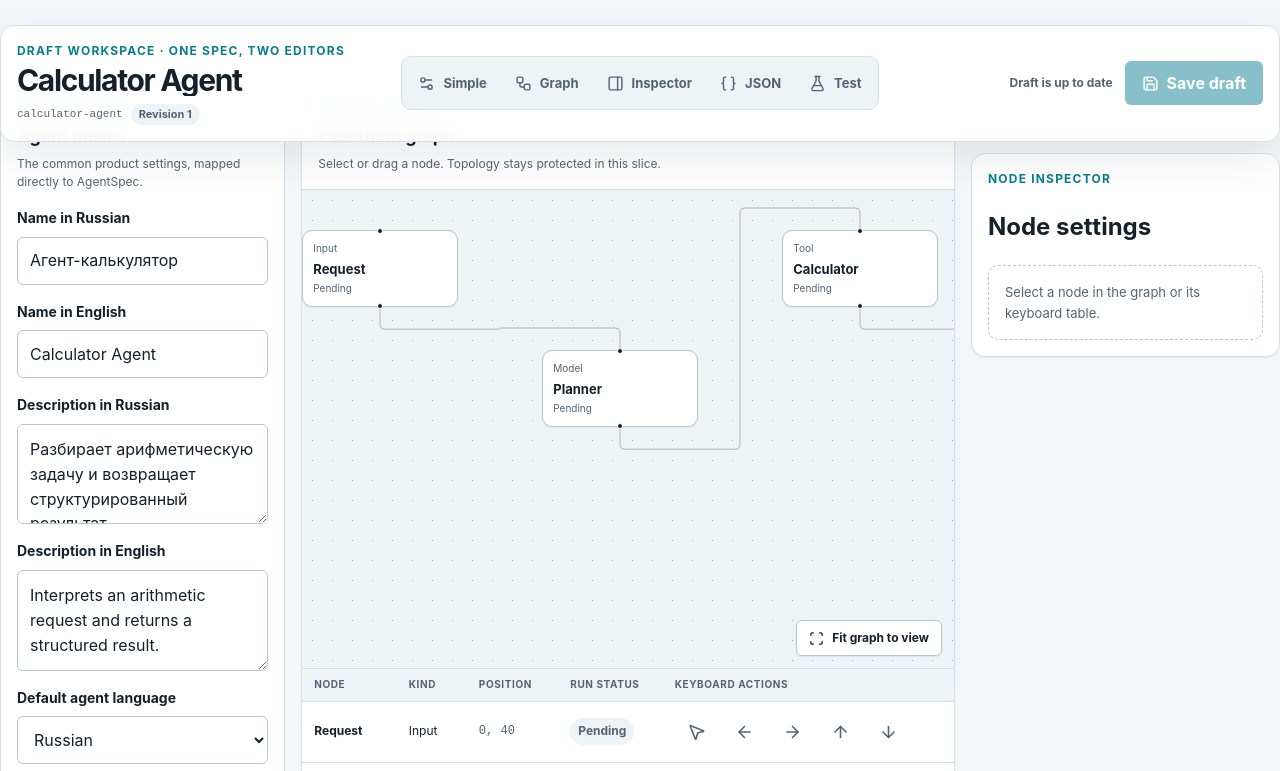
Test: dual-view draft workspace › does not run an unsaved AgentSpec as a saved revision
This screenshot has width=1280, height=771.
Step 1. Type " changed" into the field labelled "Name in English" → x=143, y=354, box [17,330,268,378]
(page scrolled)
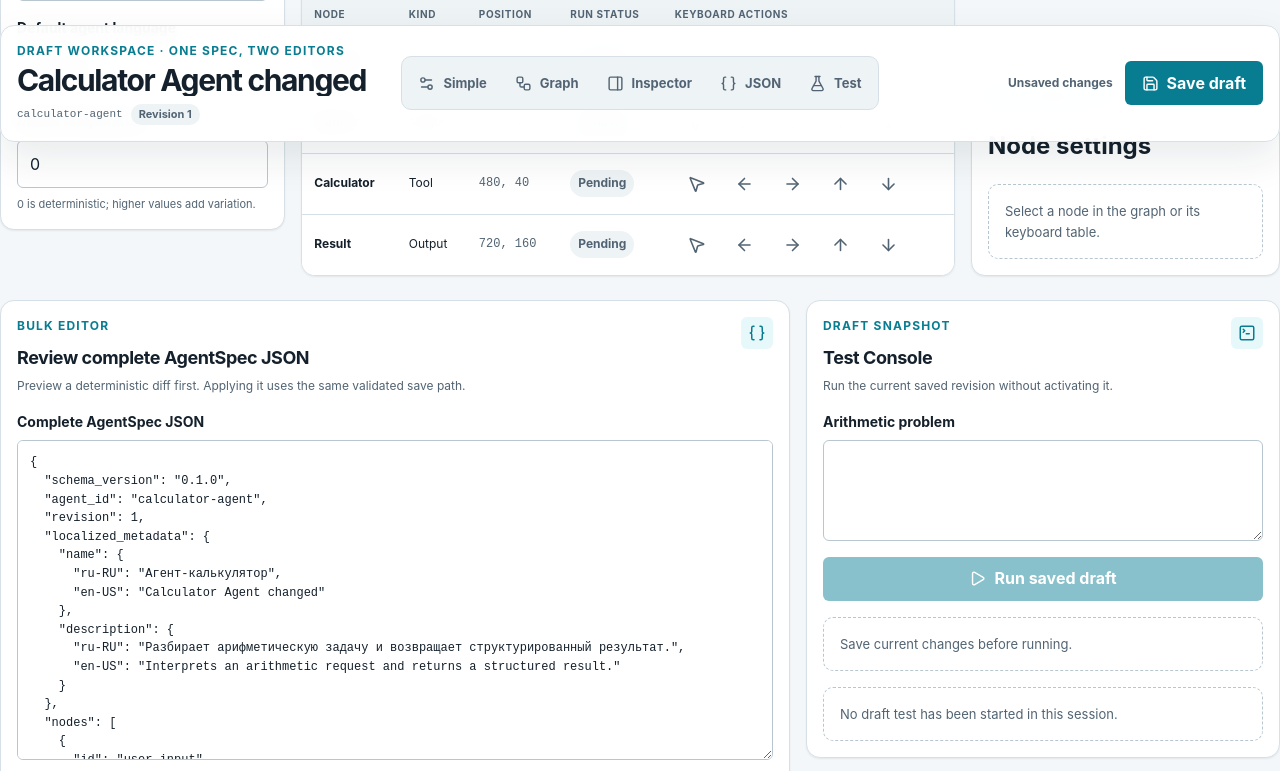
Check: the button "Run saved draft" is disabled, box [823,557,1263,601]
Check: the text "Save current changes before running." is shown, box [823,617,1263,671]
